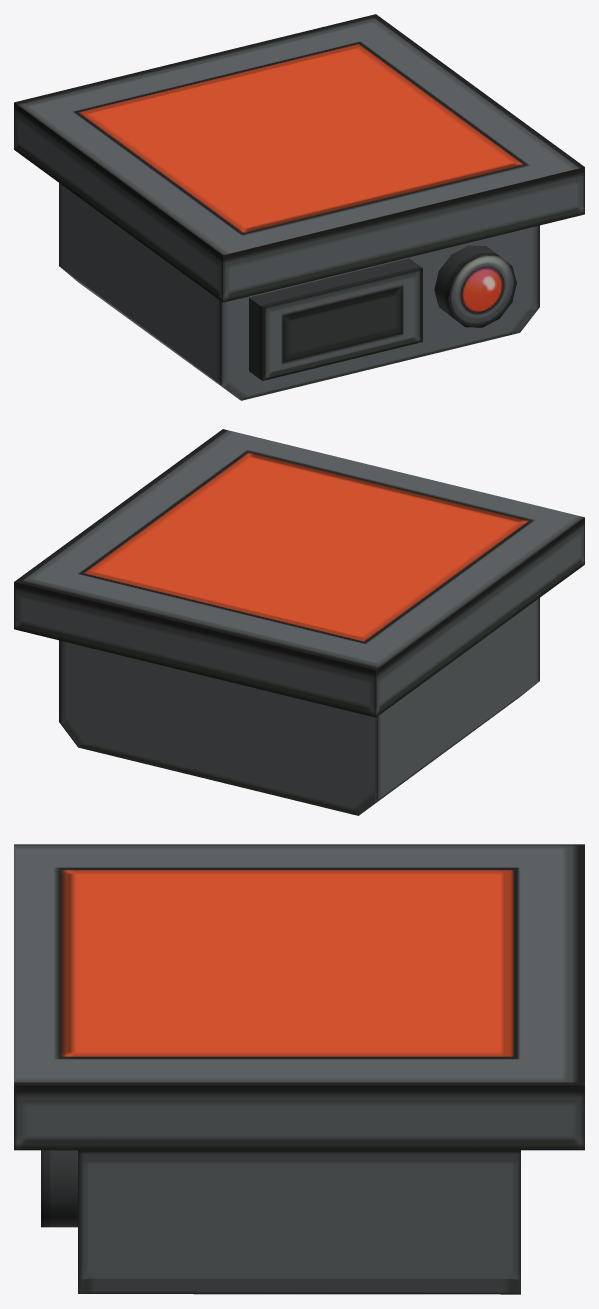
Rendered from Jump_Platform03.fbx.
The picture shows the model from 3 angles, top to bottom: view 1: azimuth 30°, elevation 25°; view 2: azimuth 150°, elevation 25°; view 3: azimuth 270°, elevation 25°; orthographic projection. The views are drawn at different scales.
Visible parts, largest first — view 1: polySurface340; view 2: polySurface340; view 3: polySurface340.
Part boxes in pixels (x1=…): polySurface340: x1=14, y1=14, x2=584, y2=400; polySurface340: x1=14, y1=429, x2=584, y2=815; polySurface340: x1=14, y1=844, x2=584, y2=1294.
Size of the model in its own units: 0.2981 by 0.1359 by 0.2981.
1 material, 1 textured.
